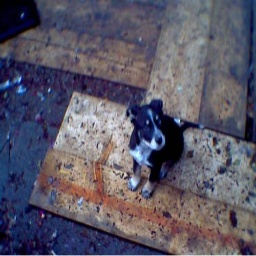dog: (118, 97, 197, 199)
